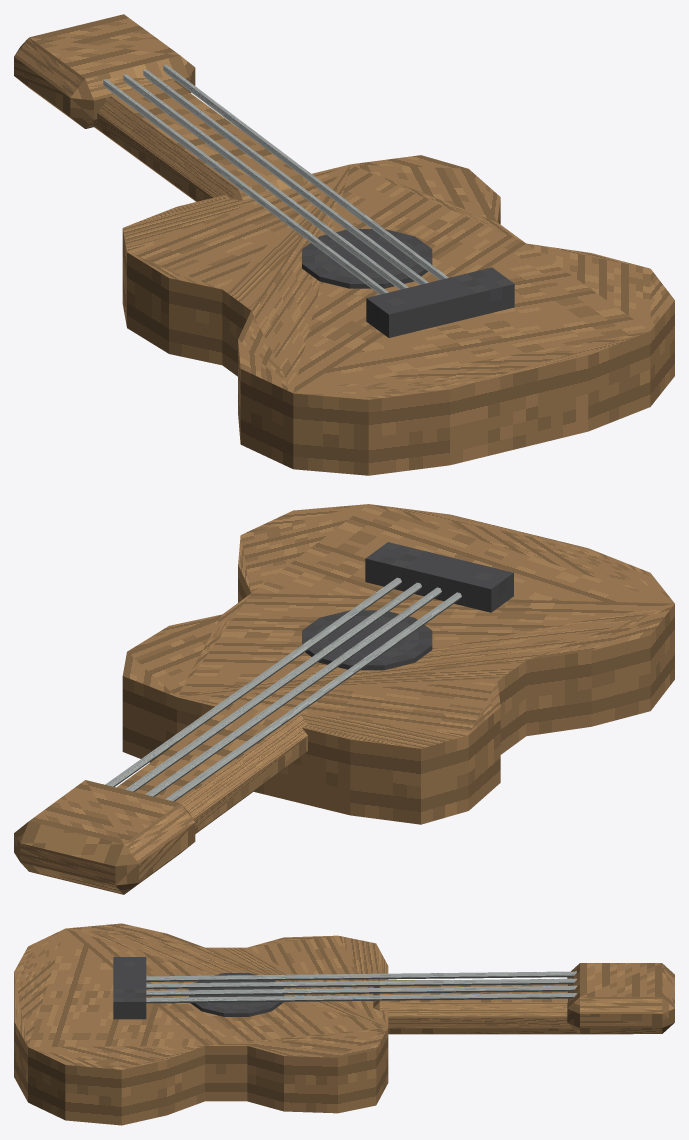
The model's file is ukulele.glb.
3 views of the same model, one above another, from view 1: azimuth 30°, elevation 25°; view 2: azimuth 150°, elevation 25°; view 3: azimuth 270°, elevation 25° (orthographic). The views are drawn at different scales.
Parts seen in each view (by area): view 1: block_curved wooden sound box, block_string (×4), block_headstock, block_neck, block_bridge, block_sound-hole inset; view 2: block_curved wooden sound box, block_headstock, block_string (×4), block_neck, block_bridge, block_sound-hole inset; view 3: block_curved wooden sound box, block_string (×4), block_neck, block_headstock, block_bridge, block_sound-hole inset.
Boxes of the visible parts, left/top/right/bottom form: block_curved wooden sound box: left=122, top=155, right=674, bottom=475; block_string (×4): left=103, top=64, right=448, bottom=294; block_headstock: left=14, top=14, right=195, bottom=128; block_neck: left=92, top=80, right=307, bottom=201; block_bridge: left=366, top=267, right=514, bottom=337; block_sound-hole inset: left=302, top=229, right=432, bottom=288; block_curved wooden sound box: left=122, top=504, right=674, bottom=824; block_headstock: left=14, top=780, right=195, bottom=894; block_string (×4): left=105, top=577, right=461, bottom=801; block_neck: left=116, top=699, right=307, bottom=833; block_bridge: left=365, top=542, right=513, bottom=612; block_sound-hole inset: left=302, top=610, right=432, bottom=670; block_curved wooden sound box: left=14, top=923, right=388, bottom=1125; block_string (×4): left=146, top=971, right=576, bottom=1003; block_neck: left=373, top=980, right=632, bottom=1034; block_headstock: left=567, top=963, right=674, bottom=1033; block_bridge: left=113, top=957, right=146, bottom=1019; block_sound-hole inset: left=189, top=973, right=284, bottom=1016.
Size of the model in its own units: 0.3042 by 0.0705 by 0.58.
1 material, 1 textured.
